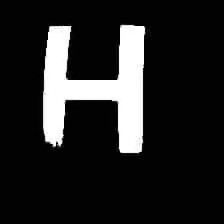LTR_H: (35, 11, 150, 157)
